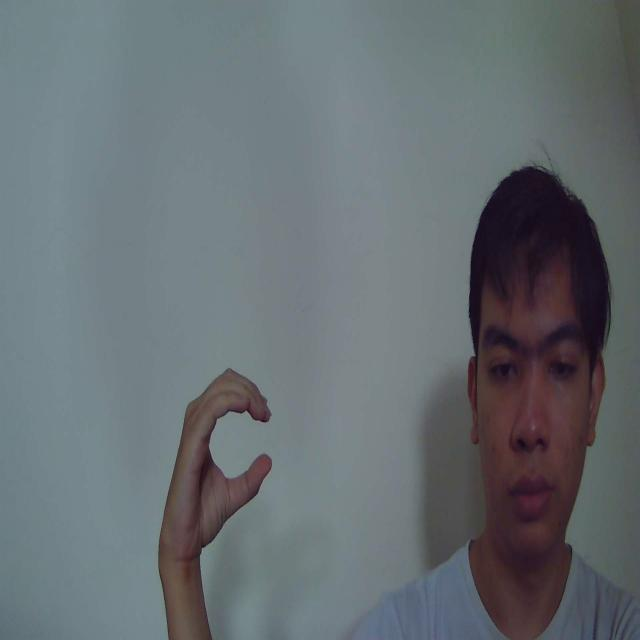C: (157, 365, 274, 558)
